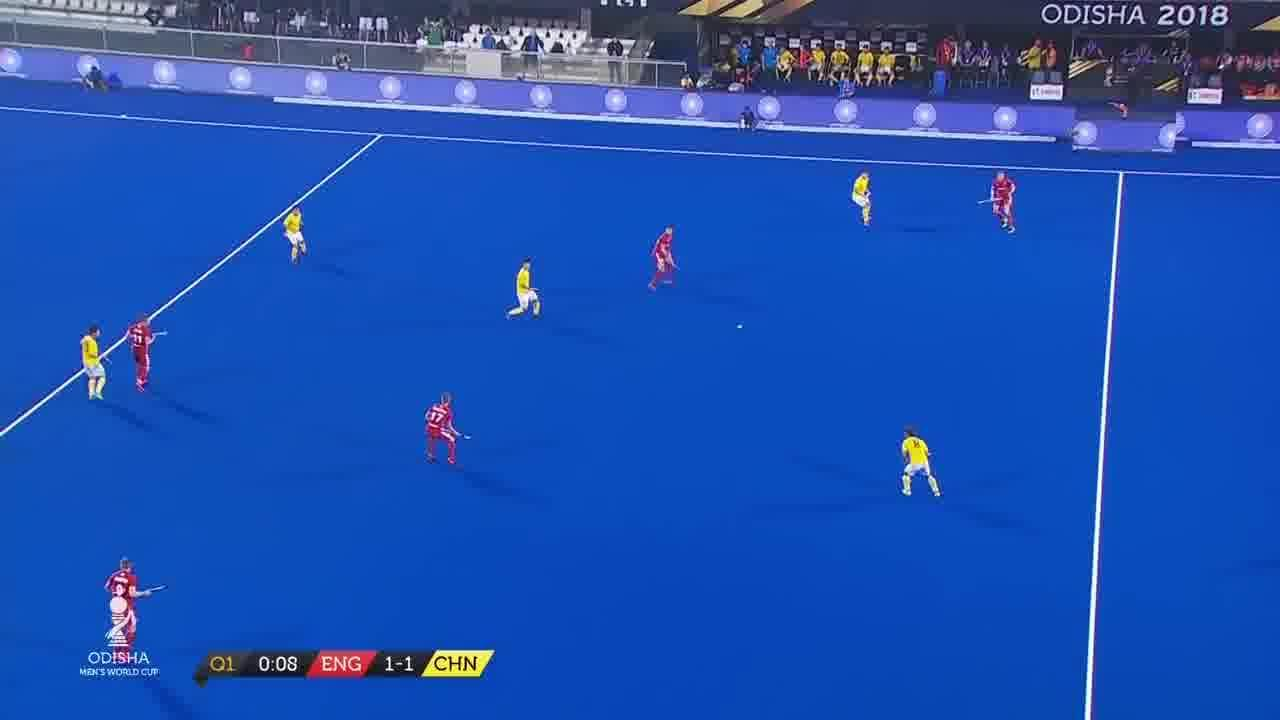ball: (736, 324, 746, 330)
